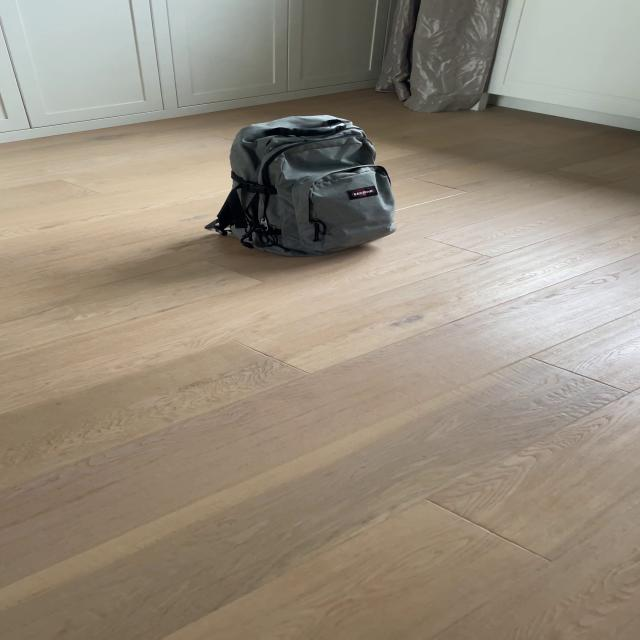backpack: (204, 108, 403, 262)
